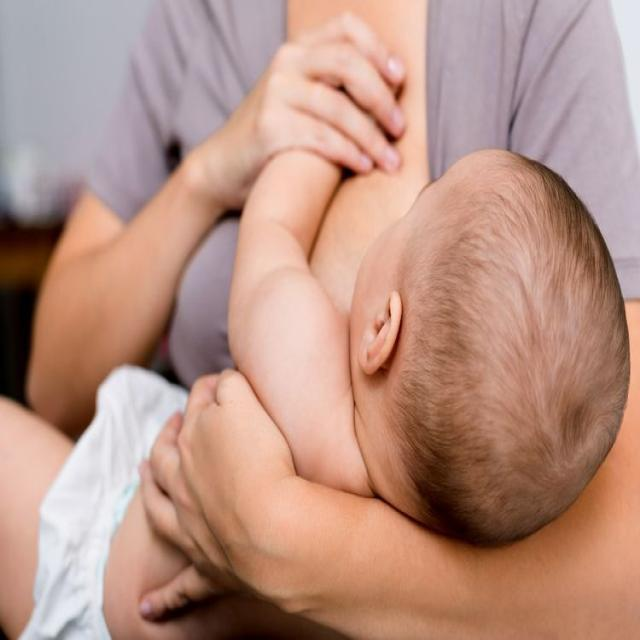non-dog: (1, 14, 631, 640), (29, 1, 640, 639)
